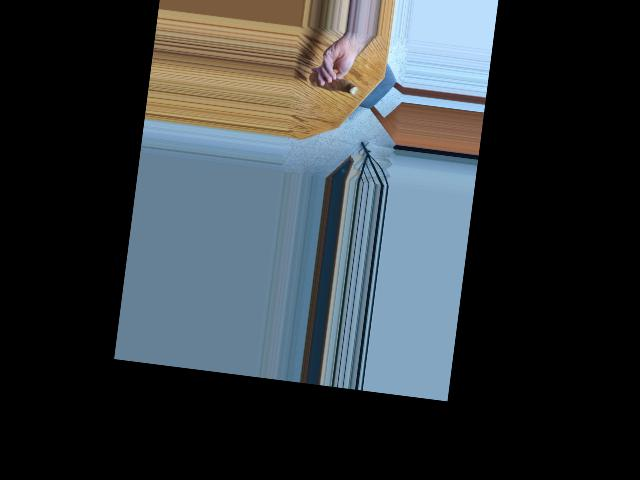sweet_potato: (308, 73, 363, 95)
